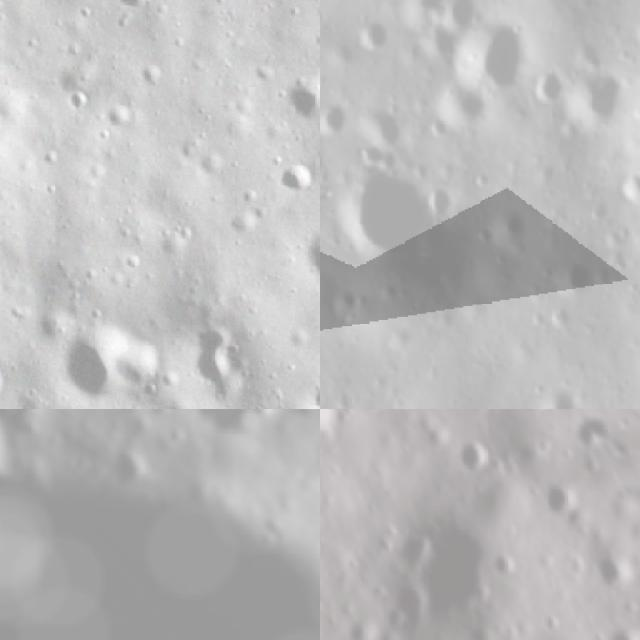crater: (52, 318, 162, 407), (146, 409, 301, 469), (343, 162, 436, 261), (190, 323, 259, 409), (454, 19, 530, 93), (570, 64, 637, 136), (94, 437, 160, 501), (446, 418, 510, 478), (0, 409, 67, 456), (551, 254, 602, 310), (358, 101, 404, 156), (280, 68, 320, 131), (539, 471, 590, 520), (488, 198, 534, 248), (349, 10, 395, 59), (268, 159, 320, 199), (320, 93, 360, 142), (294, 223, 320, 294), (445, 0, 499, 31), (537, 383, 589, 409), (231, 409, 286, 428), (99, 409, 158, 426), (618, 167, 640, 204), (271, 409, 310, 427), (396, 0, 450, 12), (311, 458, 320, 509)
